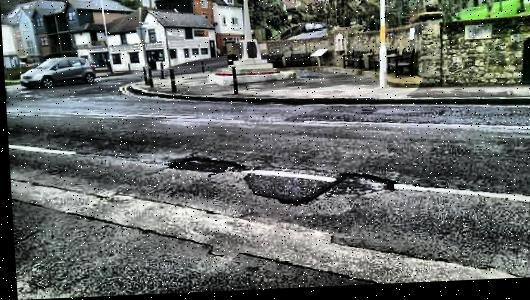pothole: (165, 155, 243, 179), (327, 172, 395, 199)
